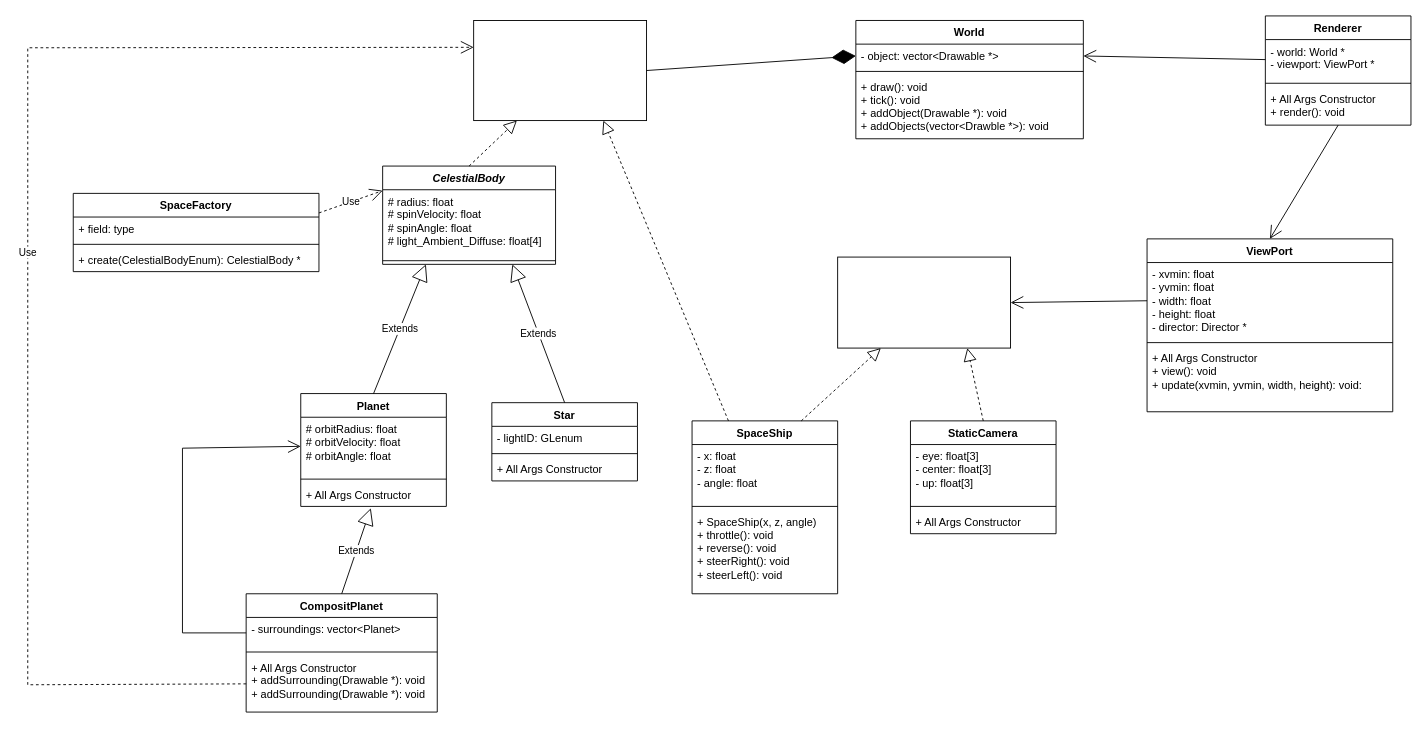
This 1427x731 diagram has some shape labels left out. The centre of each missing label's shape, as x and y in pixels:
<<Interface>> Director + pointCamera(): void: pixel 924 302
<<Interface>> Drawable + draw(): void + update(): void: pixel 560 70
